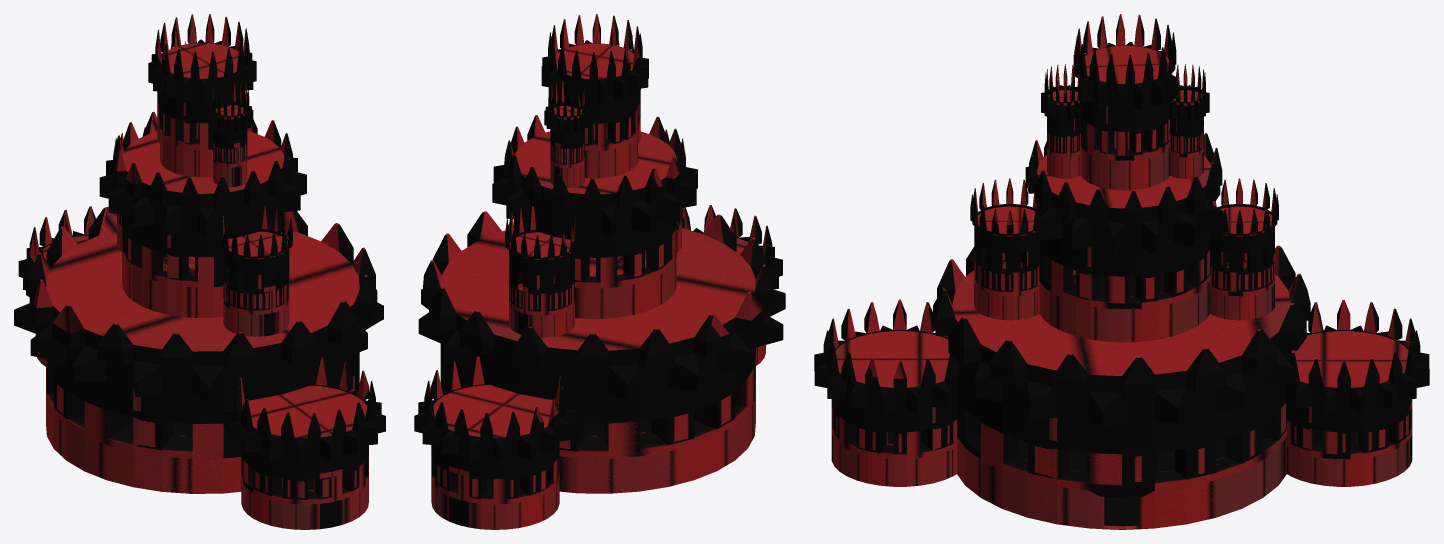
Rendered from CASTILLO.fbx.
3 renders of one model, left to right at view 1: azimuth 30°, elevation 25°; view 2: azimuth 150°, elevation 25°; view 3: azimuth 270°, elevation 25°, orthographic. The views are drawn at different scales.
Parts seen in each view (by area): view 1: CASTILLO; view 2: CASTILLO; view 3: CASTILLO.
Boxes of the visible parts, bbox=[...] form: CASTILLO: bbox=[14, 14, 385, 529]; CASTILLO: bbox=[414, 14, 785, 529]; CASTILLO: bbox=[814, 14, 1429, 529].
Bounding box in the file's own units: 3301 × 3889 × 5108.
